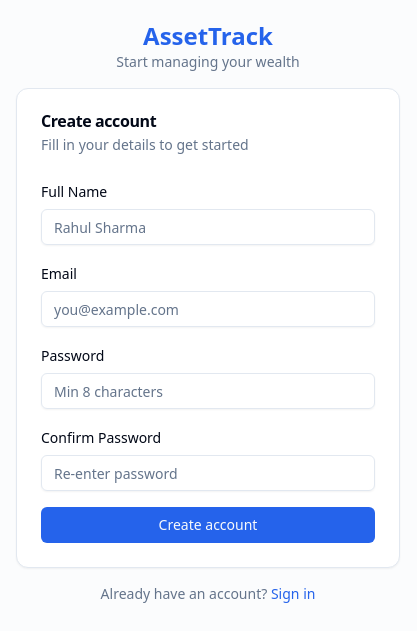
Test: Register page › password mismatch shows "Passwords do not match" error
The width and height of the screenshot is (417, 631).
Type "Priya Singh" into the field labelled "Full Name" at [208, 227], box [41, 209, 375, 245]
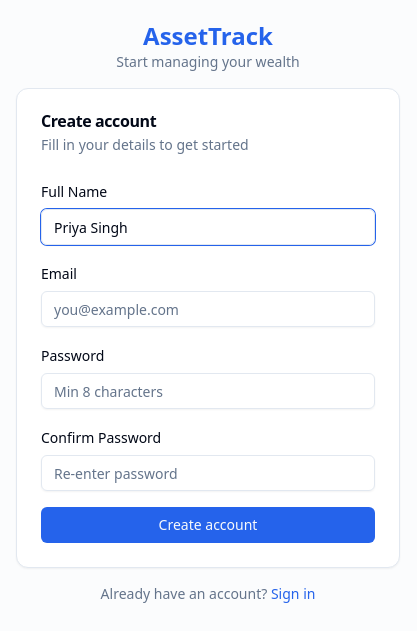
Type "priya@example.com" into the field labelled "Email" at [208, 309], box [41, 291, 375, 327]
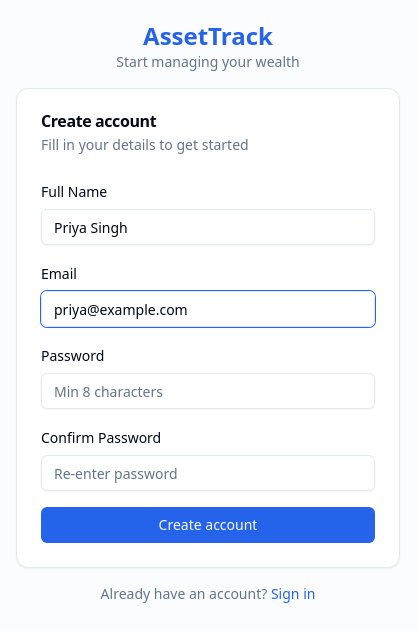
Type "StrongPass1" into the password field with placeholder "Min 8 characters" at [208, 391], box [41, 373, 375, 409]
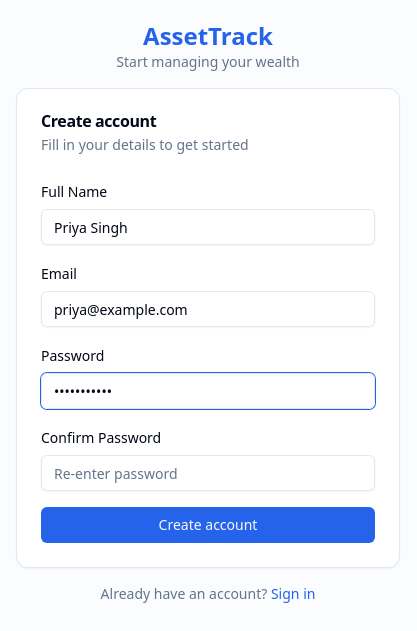
Type "DifferentPass1" into the password field with placeholder "Re-enter password" at [208, 473], box [41, 455, 375, 491]
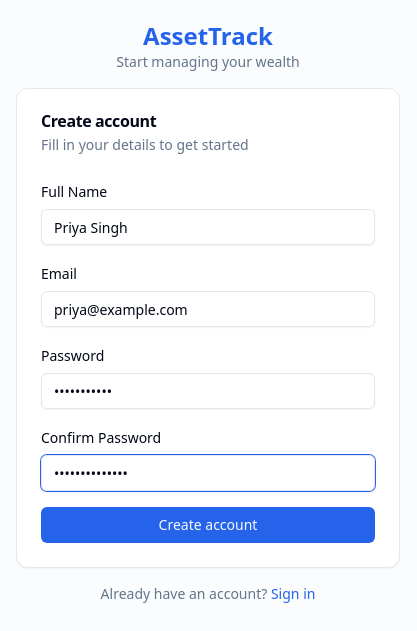
Click the button "Create account" at [208, 525], box [41, 507, 375, 543]
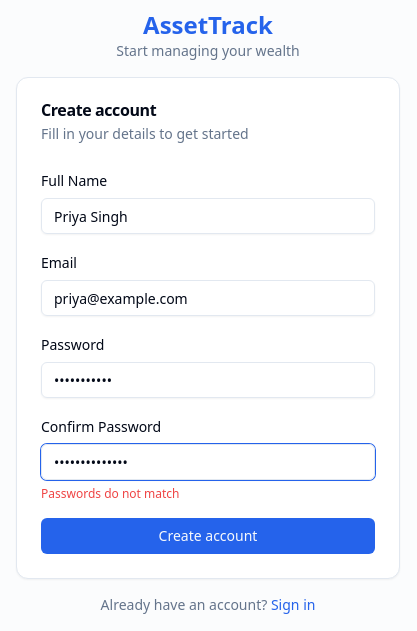
Expected: the text "Passwords do not match" is shown, [41, 485, 180, 502]
